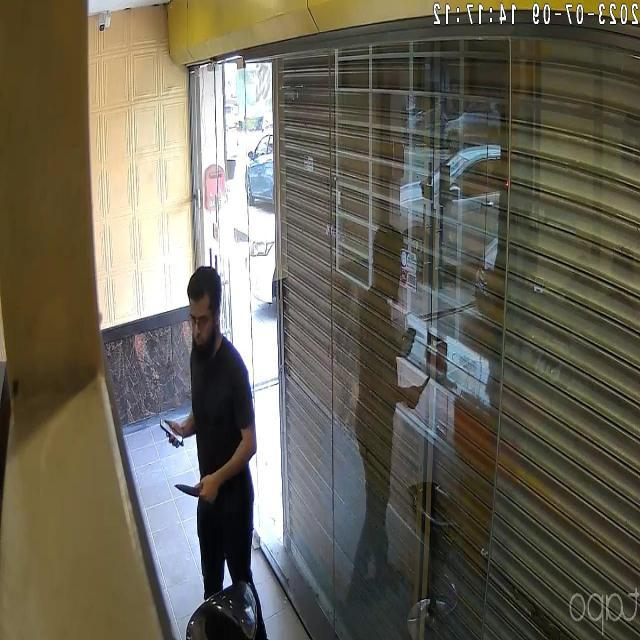Knife: (159, 472, 223, 510)
